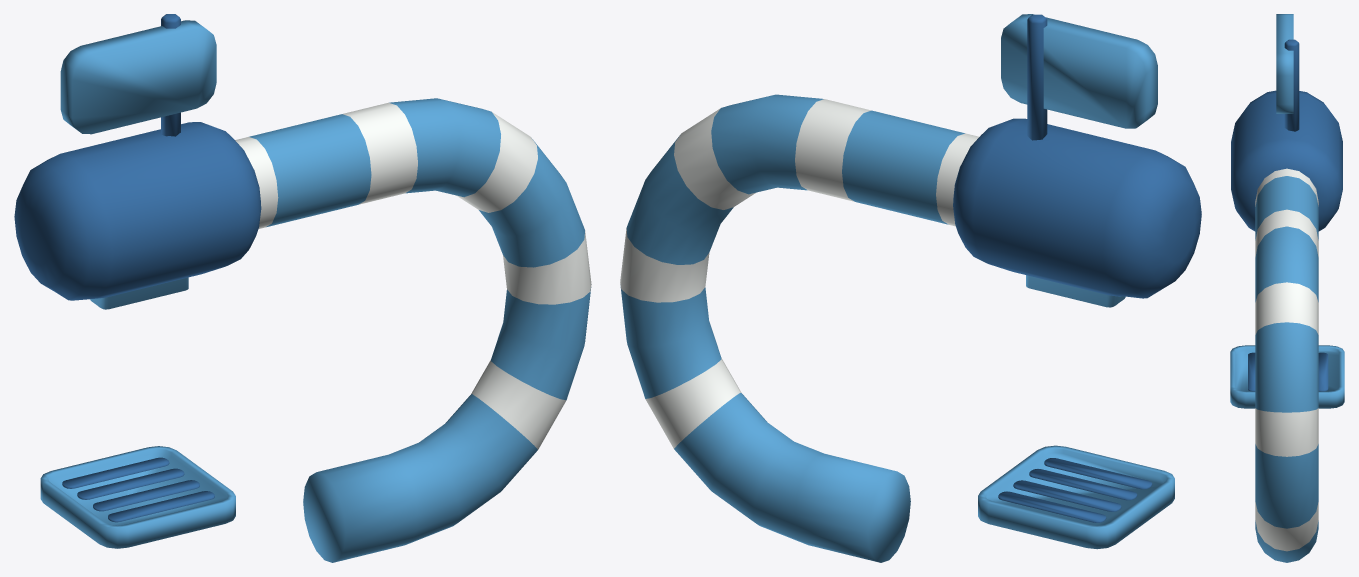
The model's file is Machine3.fbx.
3 views of the same model, side by side, from view 1: azimuth 30°, elevation 25°; view 2: azimuth 150°, elevation 25°; view 3: azimuth 270°, elevation 25° (orthographic). The views are drawn at different scales.
Parts seen in each view (by area): view 1: Cylinder.018, Cylinder.019, Cube.046, Cube.053, Cube.054, Cube.055, Cube.056, Cube.057; view 2: Cylinder.018, Cylinder.019, Cube.046, Cube.053, Cylinder.021, Cube.054, Cube.055, Cube.056, Cube.057; view 3: Cylinder.018, Cylinder.019, Cube.053, Cube.046, Cylinder.021, Cube.056, Cube.057.
Boxes of the visible parts, bbox=[...] form: Cylinder.018: bbox=[235, 98, 591, 562]; Cylinder.019: bbox=[14, 122, 261, 309]; Cube.046: bbox=[60, 20, 216, 134]; Cube.053: bbox=[40, 446, 235, 548]; Cube.054: bbox=[93, 480, 199, 511]; Cube.055: bbox=[77, 468, 184, 499]; Cube.056: bbox=[62, 457, 169, 488]; Cube.057: bbox=[108, 491, 214, 522]; Cylinder.018: bbox=[620, 94, 979, 562]; Cylinder.019: bbox=[953, 118, 1201, 307]; Cube.046: bbox=[1001, 14, 1157, 128]; Cube.053: bbox=[978, 445, 1174, 549]; Cylinder.021: bbox=[1027, 14, 1047, 140]; Cube.054: bbox=[1029, 469, 1137, 500]; Cube.055: bbox=[1013, 480, 1121, 511]; Cube.056: bbox=[998, 491, 1106, 522]; Cube.057: bbox=[1044, 458, 1152, 489]; Cylinder.018: bbox=[1255, 168, 1318, 562]; Cylinder.019: bbox=[1231, 90, 1342, 231]; Cube.053: bbox=[1230, 345, 1344, 408]; Cube.046: bbox=[1276, 14, 1293, 113]; Cylinder.021: bbox=[1284, 39, 1299, 131]; Cube.056: bbox=[1318, 352, 1328, 391]; Cube.057: bbox=[1248, 352, 1255, 391].
Size of the model in its own units: 192 by 193 by 46.56.
